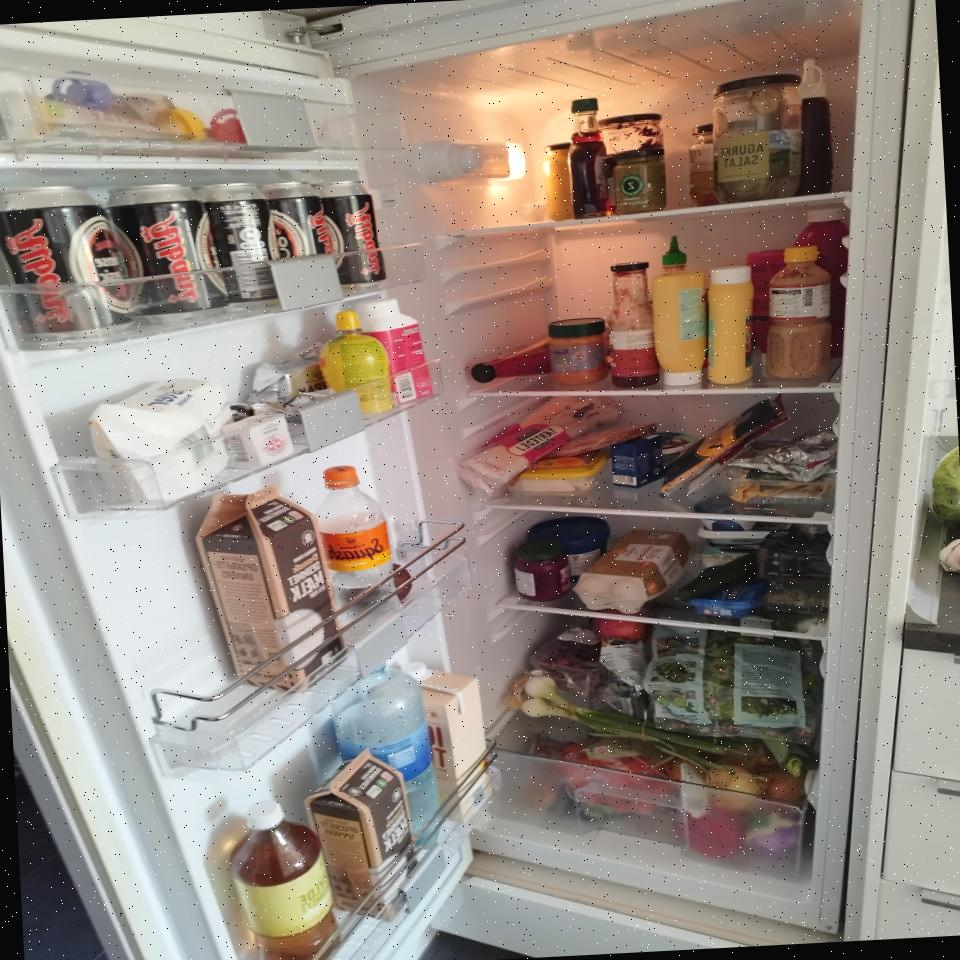Huevos: (568, 525, 696, 621)
Leche: (205, 486, 334, 693), (316, 754, 422, 915)
